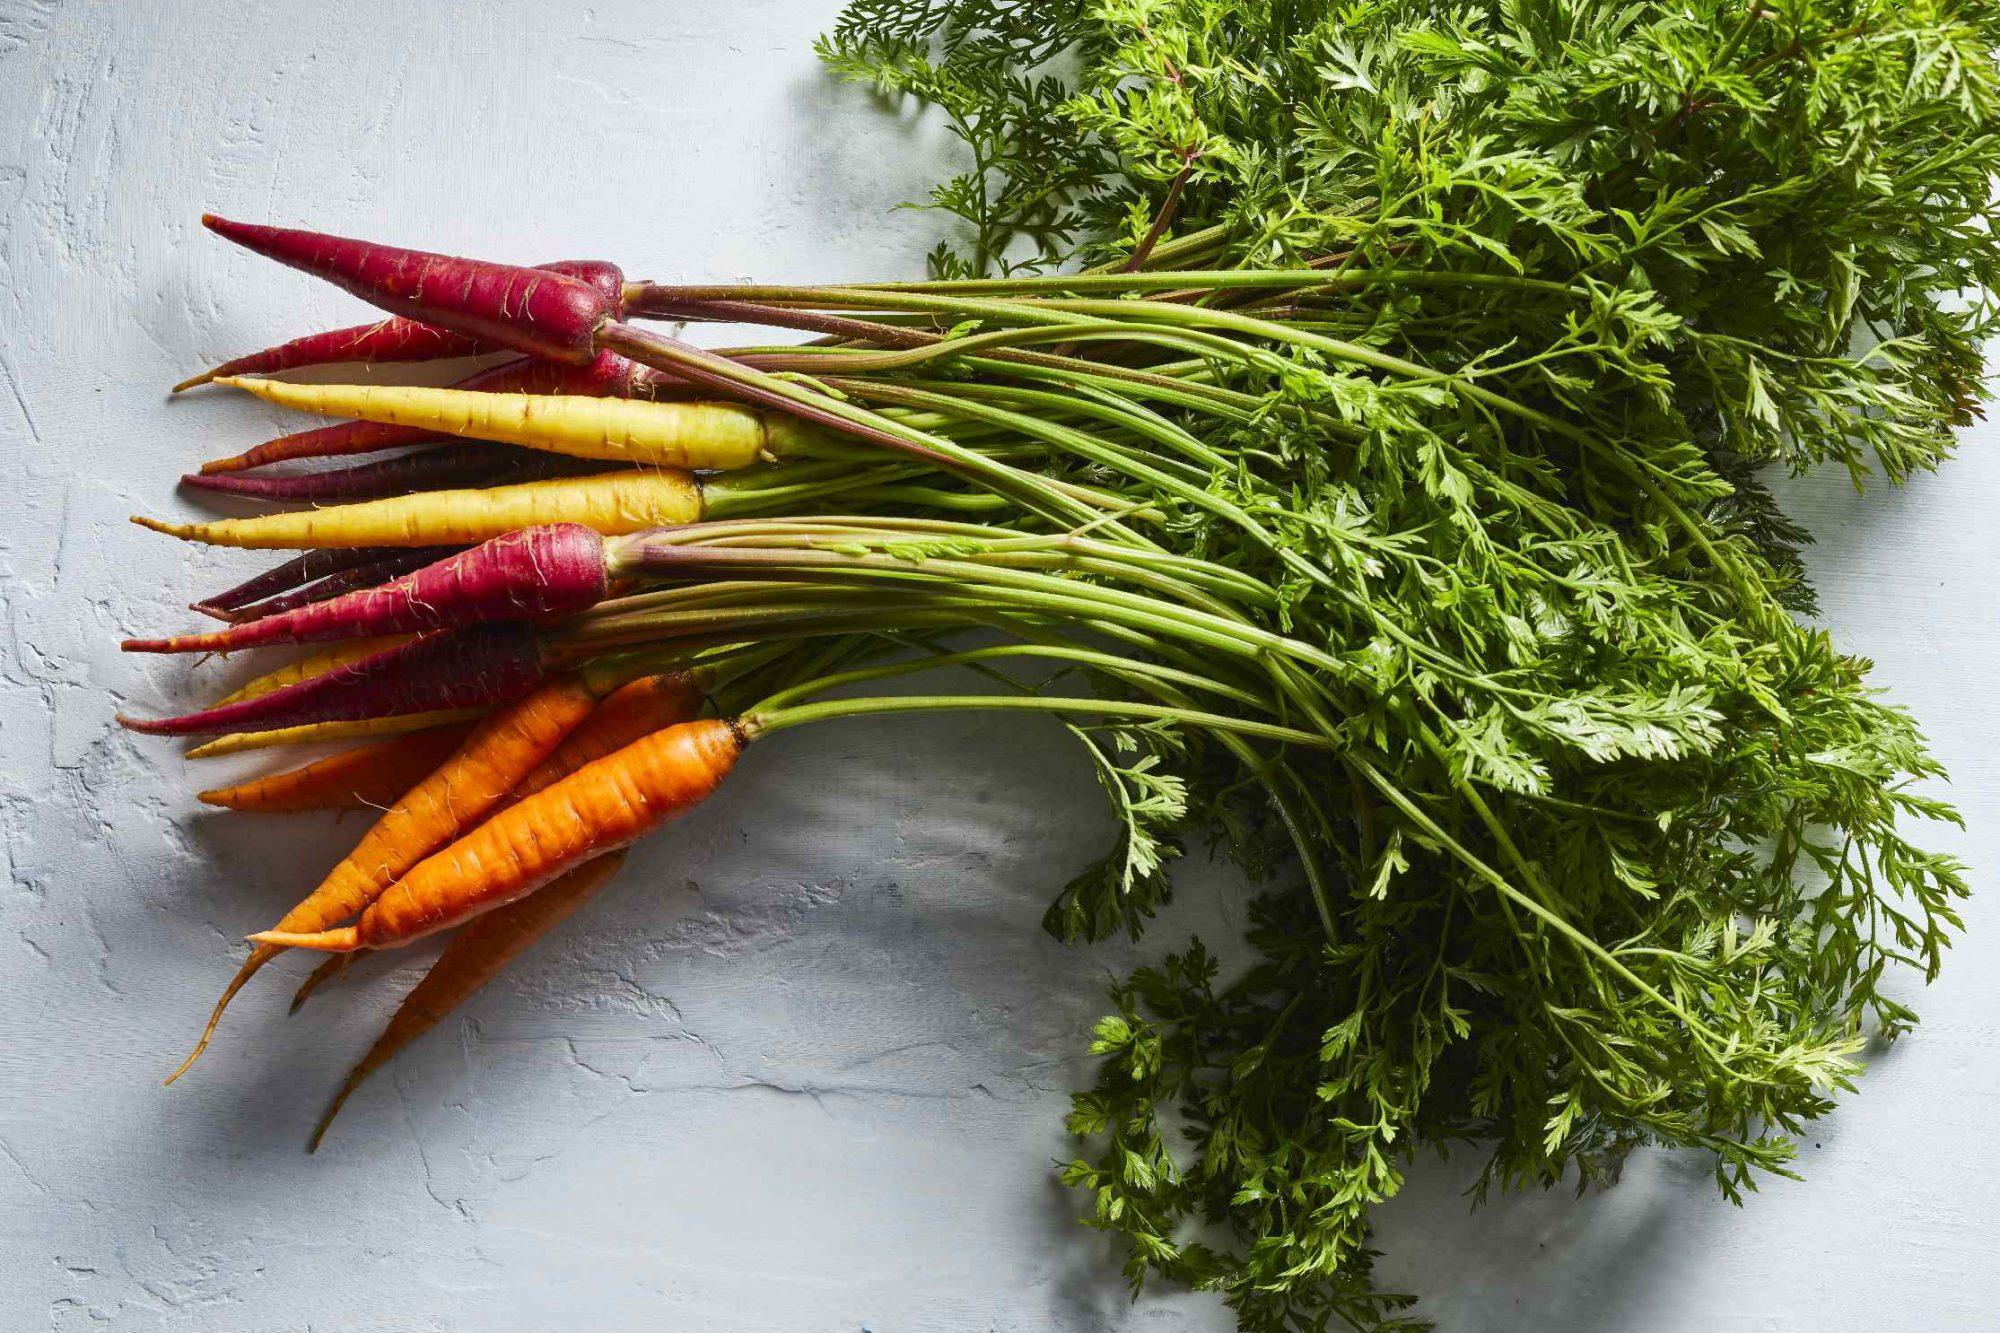carrot: (235, 680, 690, 966), (219, 366, 755, 550)
